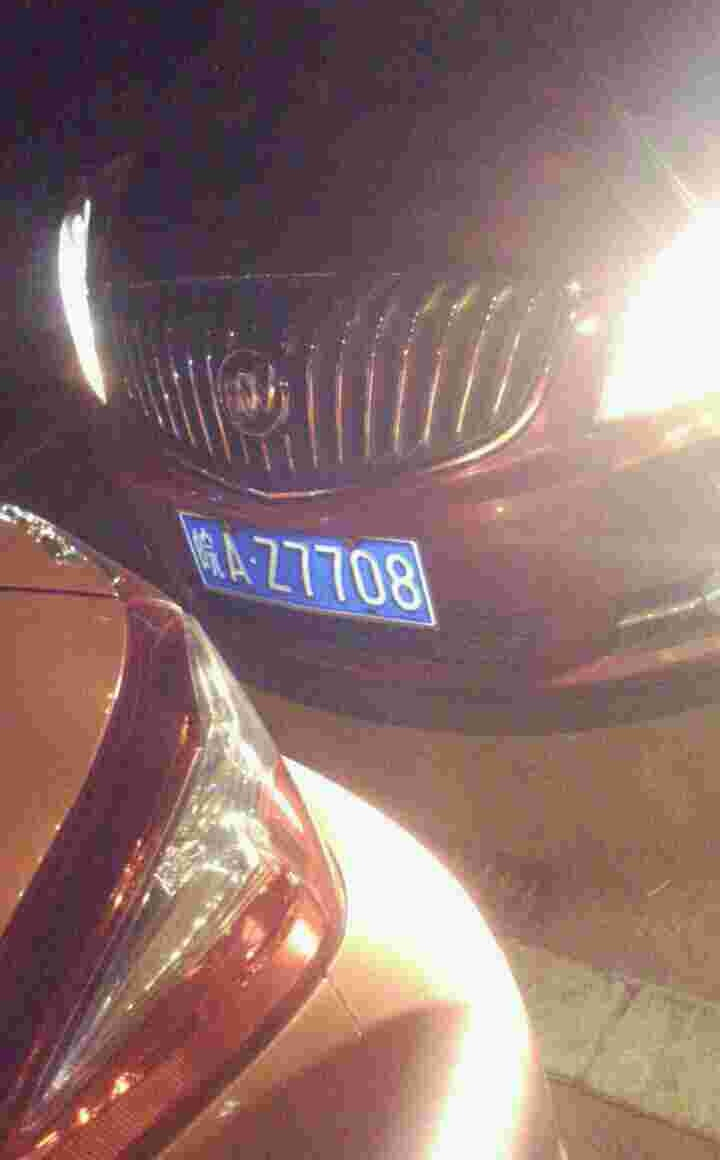license_plate: (179, 522, 436, 626)
